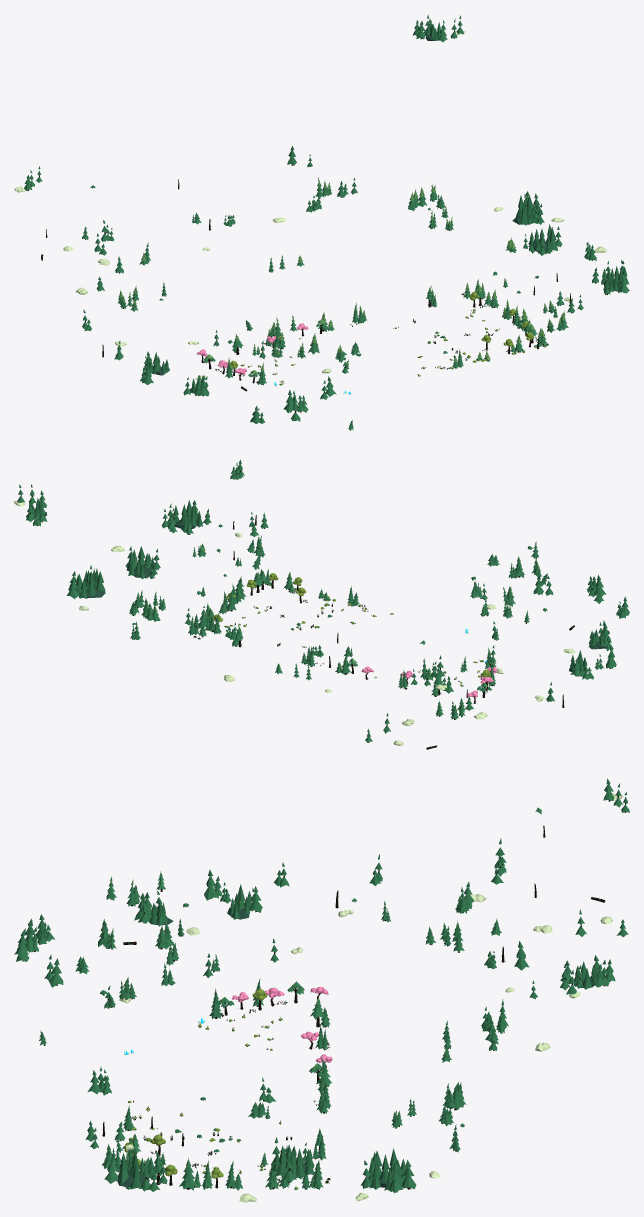
Rendered from LOBBY_09_VEGETATION_87a2cf.fbx.
3 renders of one model, top to bottom at view 1: azimuth 30°, elevation 25°; view 2: azimuth 150°, elevation 25°; view 3: azimuth 270°, elevation 25°, orthographic. The views are drawn at different scales.
Parts seen in each view (by area): view 1: VEG_Leste_Norte__Leaf_Pine, VEG_Vale_Oeste__Leaf_Pine, VEG_Leste_Sul__Leaf_Pine, VEG_Vale_Leste__Leaf_Pine, VEG_Norte_Leste__Leaf_Pine, VEG_Oeste_Sul__Leaf_Pine, VEG_Noroeste__Leaf_Pine, VEG_Nordeste__Leaf_Pine, VEG_Oeste_Norte__Leaf_Pine; view 2: VEG_Leste_Norte__Leaf_Pine, VEG_Vale_Oeste__Leaf_Pine, VEG_Vale_Leste__Leaf_Pine, VEG_Leste_Sul__Leaf_Pine, VEG_Norte_Leste__Leaf_Pine, VEG_Oeste_Sul__Leaf_Pine, VEG_Noroeste__Leaf_Pine, VEG_Oeste_Norte__Leaf_Pine, VEG_Nordeste__Leaf_Pine, VEG_Vale_Leste__Leaf_Broad; view 3: VEG_Vale_Oeste__Leaf_Pine, VEG_Leste_Norte__Leaf_Pine, VEG_Leste_Sul__Leaf_Pine, VEG_Vale_Leste__Leaf_Pine, VEG_Oeste_Sul__Leaf_Pine, VEG_Norte_Leste__Leaf_Pine, VEG_Noroeste__Leaf_Pine, VEG_Oeste_Norte__Leaf_Pine, VEG_Nordeste__Leaf_Pine, VEG_Vale_Leste__Leaf_Broad, VEG_Vale_Oeste__Sakura_Pink, VEG_Queda_Sul_Oeste__Leaf_Pine.
Boxes of the visible parts, x1=… form: VEG_Leste_Norte__Leaf_Pine: x1=493, y1=191, x2=562, y2=293; VEG_Vale_Oeste__Leaf_Pine: x1=203, y1=319, x2=348, y2=385; VEG_Leste_Sul__Leaf_Pine: x1=543, y1=242, x2=629, y2=332; VEG_Vale_Leste__Leaf_Pine: x1=352, y1=281, x2=548, y2=376; VEG_Norte_Leste__Leaf_Pine: x1=287, y1=146, x2=453, y2=266; VEG_Oeste_Sul__Leaf_Pine: x1=183, y1=320, x2=308, y2=423; VEG_Noroeste__Leaf_Pine: x1=24, y1=166, x2=147, y2=311; VEG_Nordeste__Leaf_Pine: x1=412, y1=15, x2=463, y2=226; VEG_Oeste_Norte__Leaf_Pine: x1=82, y1=282, x2=169, y2=384; VEG_Leste_Norte__Leaf_Pine: x1=66, y1=508, x2=226, y2=598; VEG_Vale_Oeste__Leaf_Pine: x1=335, y1=542, x2=541, y2=696; VEG_Vale_Leste__Leaf_Pine: x1=188, y1=569, x2=393, y2=666; VEG_Leste_Sul__Leaf_Pine: x1=161, y1=459, x2=268, y2=569; VEG_Norte_Leste__Leaf_Pine: x1=132, y1=590, x2=282, y2=673; VEG_Oeste_Sul__Leaf_Pine: x1=539, y1=573, x2=629, y2=650; VEG_Noroeste__Leaf_Pine: x1=365, y1=640, x2=473, y2=747; VEG_Oeste_Norte__Leaf_Pine: x1=460, y1=645, x2=616, y2=701; VEG_Nordeste__Leaf_Pine: x1=17, y1=484, x2=139, y2=639; VEG_Vale_Leste__Leaf_Broad: x1=194, y1=573, x2=392, y2=647; VEG_Vale_Oeste__Leaf_Pine: x1=98, y1=878, x2=331, y2=1092; VEG_Leste_Norte__Leaf_Pine: x1=197, y1=1077, x2=416, y2=1193; VEG_Leste_Sul__Leaf_Pine: x1=85, y1=1066, x2=167, y2=1191; VEG_Vale_Leste__Leaf_Pine: x1=122, y1=1083, x2=330, y2=1190; VEG_Oeste_Sul__Leaf_Pine: x1=14, y1=871, x2=188, y2=961; VEG_Norte_Leste__Leaf_Pine: x1=391, y1=941, x2=537, y2=1150; VEG_Noroeste__Leaf_Pine: x1=425, y1=778, x2=629, y2=952; VEG_Oeste_Norte__Leaf_Pine: x1=204, y1=854, x2=390, y2=922; VEG_Nordeste__Leaf_Pine: x1=438, y1=955, x2=615, y2=1152; VEG_Vale_Leste__Leaf_Broad: x1=124, y1=1100, x2=329, y2=1189; VEG_Vale_Oeste__Sakura_Pink: x1=198, y1=986, x2=332, y2=1070; VEG_Queda_Sul_Oeste__Leaf_Pine: x1=39, y1=933, x2=108, y2=1045.
Size of the model in its own units: 449 by 181 by 361.
10 materials, 3 textured.
